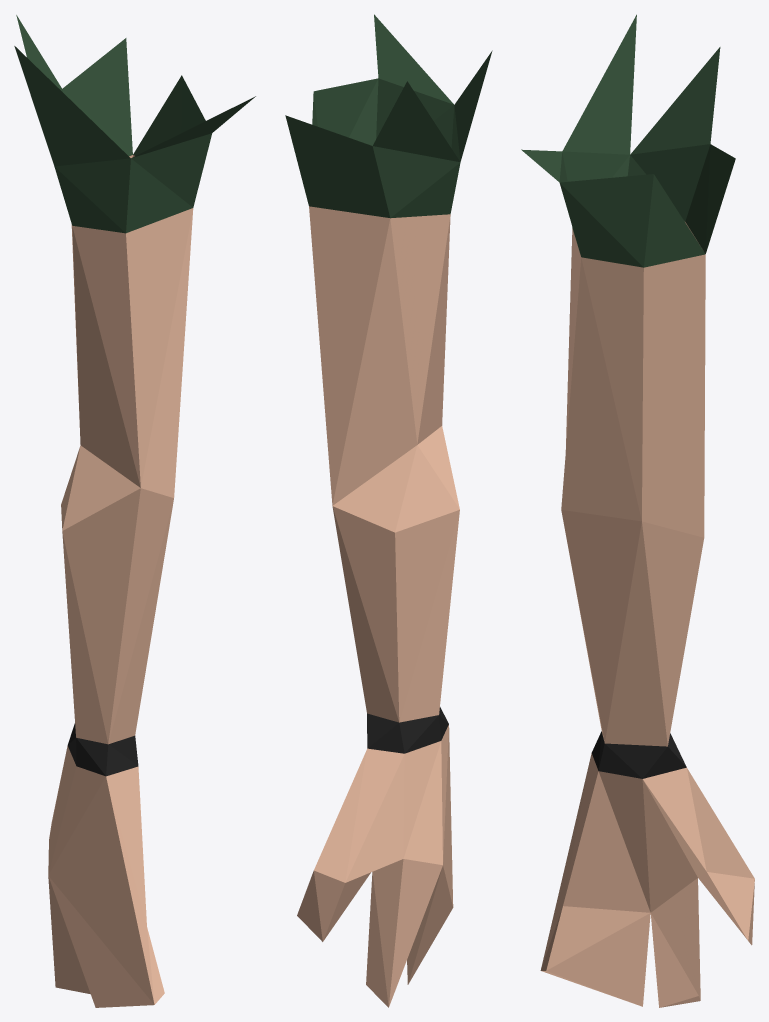
Rendered from ArmL_Lo.obj.
The picture shows the model from 3 angles, left to right: view 1: azimuth 30°, elevation 25°; view 2: azimuth 150°, elevation 25°; view 3: azimuth 270°, elevation 25°; orthographic projection. The views are drawn at different scales.
Size of the model in its own units: 0.1725 by 0.889 by 0.1977.
Materials: 1 (1 with a texture image).
